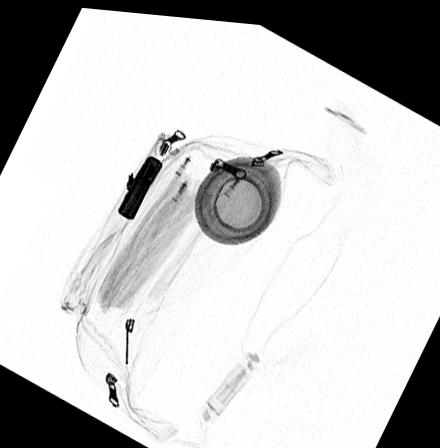Lighter: (116, 152, 161, 216)
